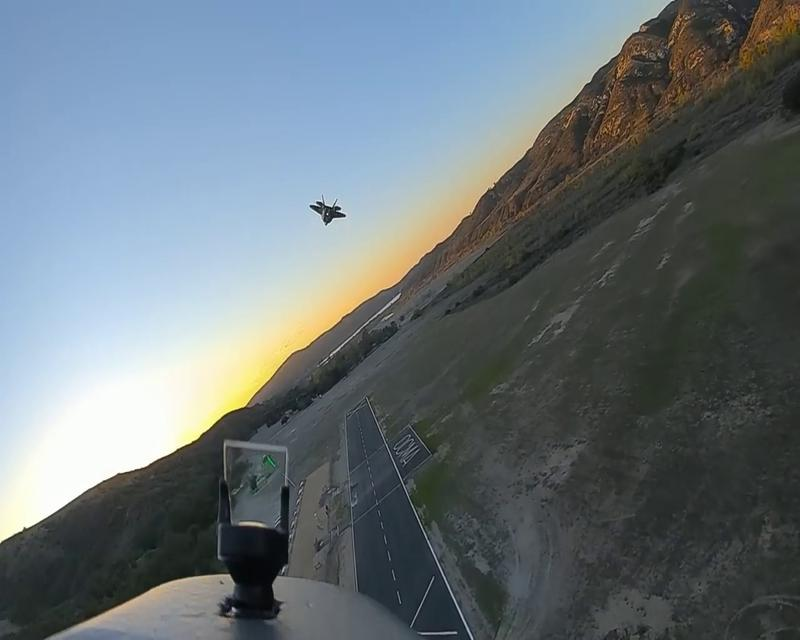UAV: (309, 194, 347, 226)
